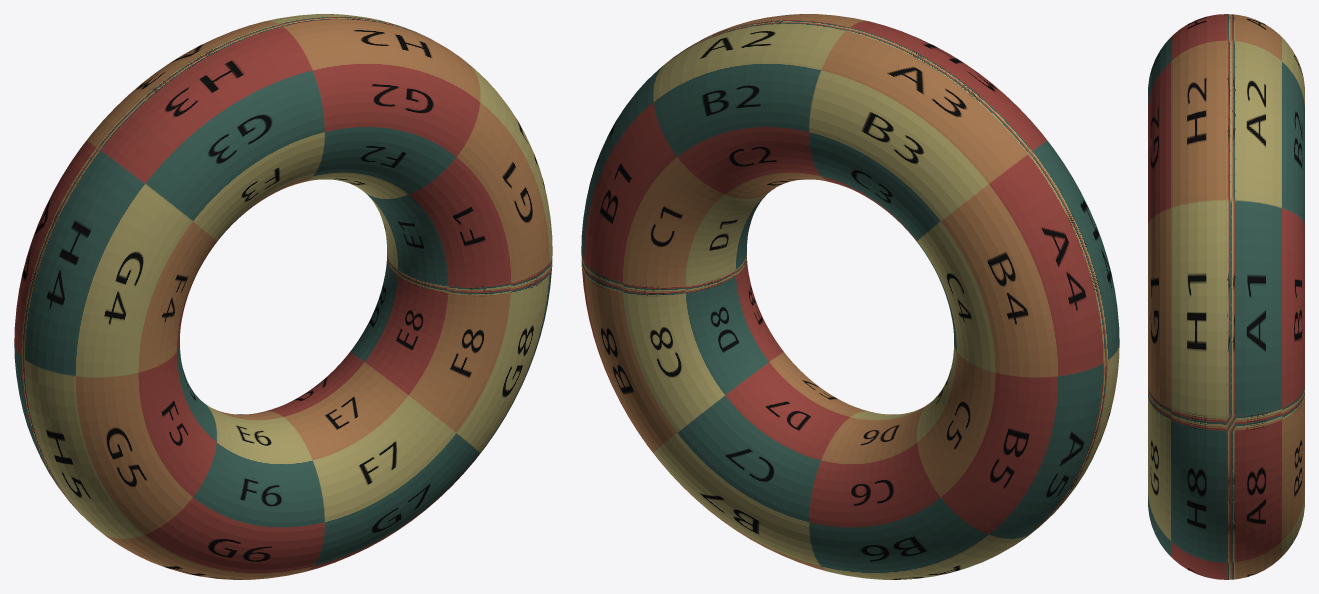
Rendered from texture_torus_R2_r4.glb.
3 views of the same model, side by side, from view 1: azimuth 30°, elevation 25°; view 2: azimuth 150°, elevation 25°; view 3: azimuth 270°, elevation 25° (orthographic). The views are drawn at different scales.
Visible parts, largest first — view 1: world; view 2: world; view 3: world.
Boxes of the visible parts, <box> form: world: <box>14,14,552,579</box>; world: <box>581,14,1119,579</box>; world: <box>1148,14,1304,579</box>.
Size of the model in its own units: 20 by 20 by 5.54.
Materials: 1 (1 with a texture image).
